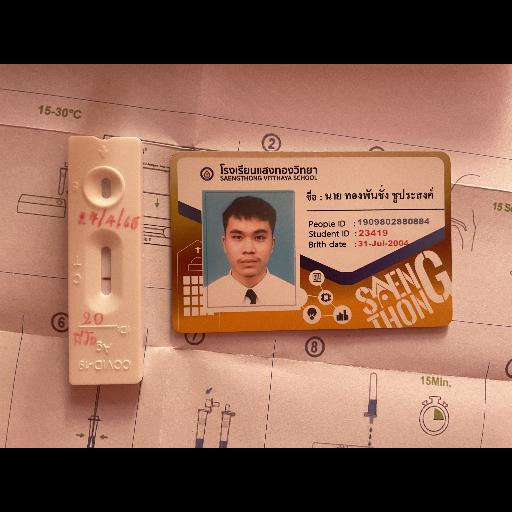Neg: (68, 137, 142, 385)
